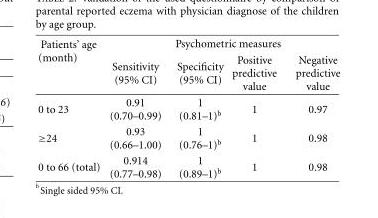table: (37, 37, 339, 179)
table column: (37, 37, 104, 179), (104, 37, 168, 179), (168, 37, 227, 179), (227, 37, 285, 179), (285, 37, 339, 179)
table column header: (37, 37, 339, 94)
table row: (37, 51, 339, 94), (37, 94, 339, 123), (37, 123, 339, 152), (37, 152, 339, 179), (37, 37, 339, 51)
table spanning cell: (37, 37, 104, 94), (104, 37, 339, 51)
